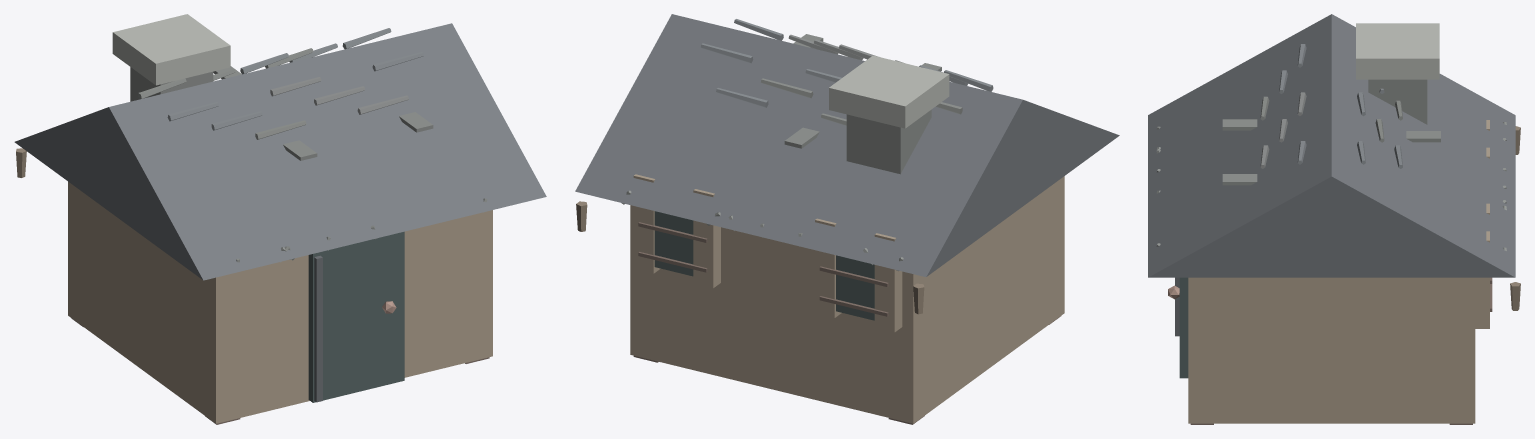
Rendered from bellkeeper_hut.glb.
3 views of the same model, side by side, from view 1: azimuth 30°, elevation 25°; view 2: azimuth 150°, elevation 25°; view 3: azimuth 270°, elevation 25° (orthographic). The views are drawn at different scales.
Parts seen in each view (by area): view 1: bellkeeper_hut_material_05, bellkeeper_hut_material_00, bellkeeper_hut_material_02, bellkeeper_hut_material_10, bellkeeper_hut_material_06, bellkeeper_hut_material_07, bellkeeper_hut_material_03, bellkeeper_hut_material_08; view 2: bellkeeper_hut_material_05, bellkeeper_hut_material_00, bellkeeper_hut_material_10, bellkeeper_hut_material_06, bellkeeper_hut_material_02, bellkeeper_hut_material_07, bellkeeper_hut_material_01, bellkeeper_hut_material_08, bellkeeper_hut_material_09; view 3: bellkeeper_hut_material_05, bellkeeper_hut_material_00, bellkeeper_hut_material_10, bellkeeper_hut_material_06, bellkeeper_hut_material_02, bellkeeper_hut_material_07, bellkeeper_hut_material_08, bellkeeper_hut_material_09.
Part boxes in pixels (x1,y1,x2,y2): bellkeeper_hut_material_05: (14,23,546,280); bellkeeper_hut_material_00: (68,181,492,423); bellkeeper_hut_material_02: (308,231,404,402); bellkeeper_hut_material_10: (112,14,230,85); bellkeeper_hut_material_06: (130,48,487,262); bellkeeper_hut_material_07: (167,28,423,130); bellkeeper_hut_material_03: (314,255,322,402); bellkeeper_hut_material_08: (270,77,408,114); bellkeeper_hut_material_05: (575,14,1119,276); bellkeeper_hut_material_00: (630,174,1064,423); bellkeeper_hut_material_10: (829,55,949,128); bellkeeper_hut_material_06: (621,34,962,271); bellkeeper_hut_material_02: (654,211,874,320); bellkeeper_hut_material_07: (701,19,993,107); bellkeeper_hut_material_01: (633,222,1060,424); bellkeeper_hut_material_08: (788,34,877,60); bellkeeper_hut_material_09: (576,201,924,314); bellkeeper_hut_material_05: (1148,14,1515,277); bellkeeper_hut_material_00: (1188,120,1489,423); bellkeeper_hut_material_10: (1356,23,1439,79); bellkeeper_hut_material_06: (1156,79,1506,250); bellkeeper_hut_material_02: (1179,277,1188,378); bellkeeper_hut_material_07: (1279,44,1402,168); bellkeeper_hut_material_08: (1260,92,1306,168); bellkeeper_hut_material_09: (1510,126,1520,310).
Bounding box in the file's own units: 2.48 × 2.02 × 2.41.
